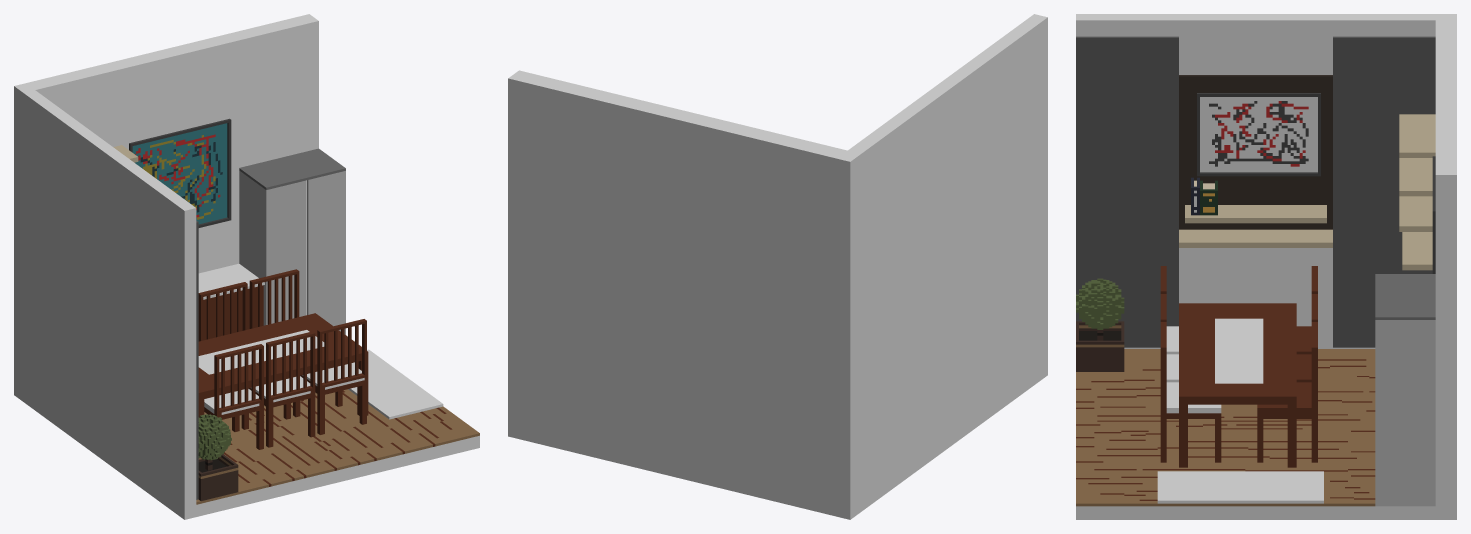
File: kitchen_02.gltf
3 views of the same model, side by side, from view 1: azimuth 30°, elevation 25°; view 2: azimuth 150°, elevation 25°; view 3: azimuth 270°, elevation 25° (orthographic). The views are drawn at different scales.
Parts seen in each view (by area): view 1: Kitchen; view 2: Kitchen; view 3: Kitchen.
Boxes of the visible parts, left/top/right/bottom form: Kitchen: left=14, top=14, right=479, bottom=519; Kitchen: left=508, top=14, right=1047, bottom=519; Kitchen: left=1076, top=14, right=1456, bottom=519.
Size of the model in its own units: 126 by 126 by 126.
